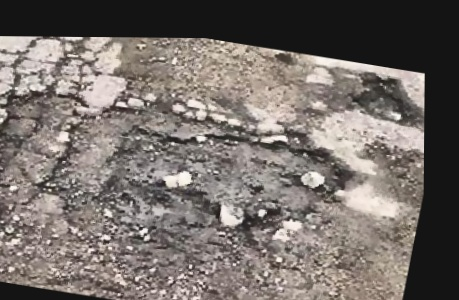pothole: (31, 86, 363, 300), (343, 67, 425, 130)
